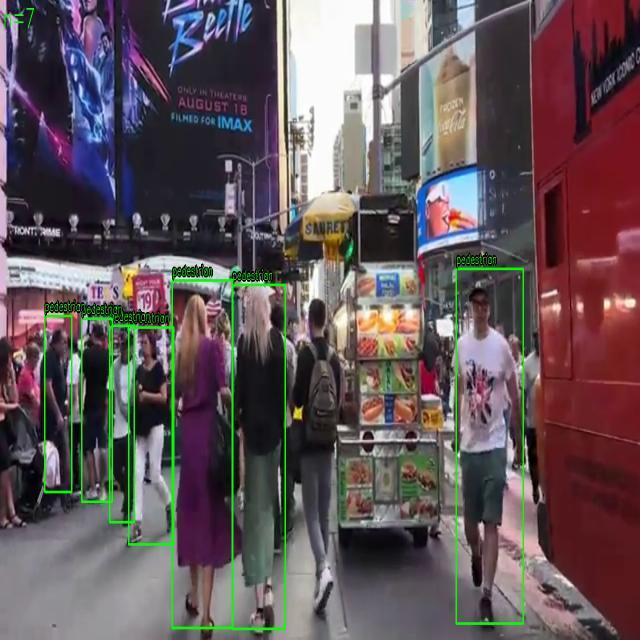person: (456, 268, 524, 624), (172, 280, 233, 628), (232, 284, 286, 630), (128, 327, 174, 545), (81, 318, 112, 502), (44, 316, 72, 492), (110, 325, 134, 523)
